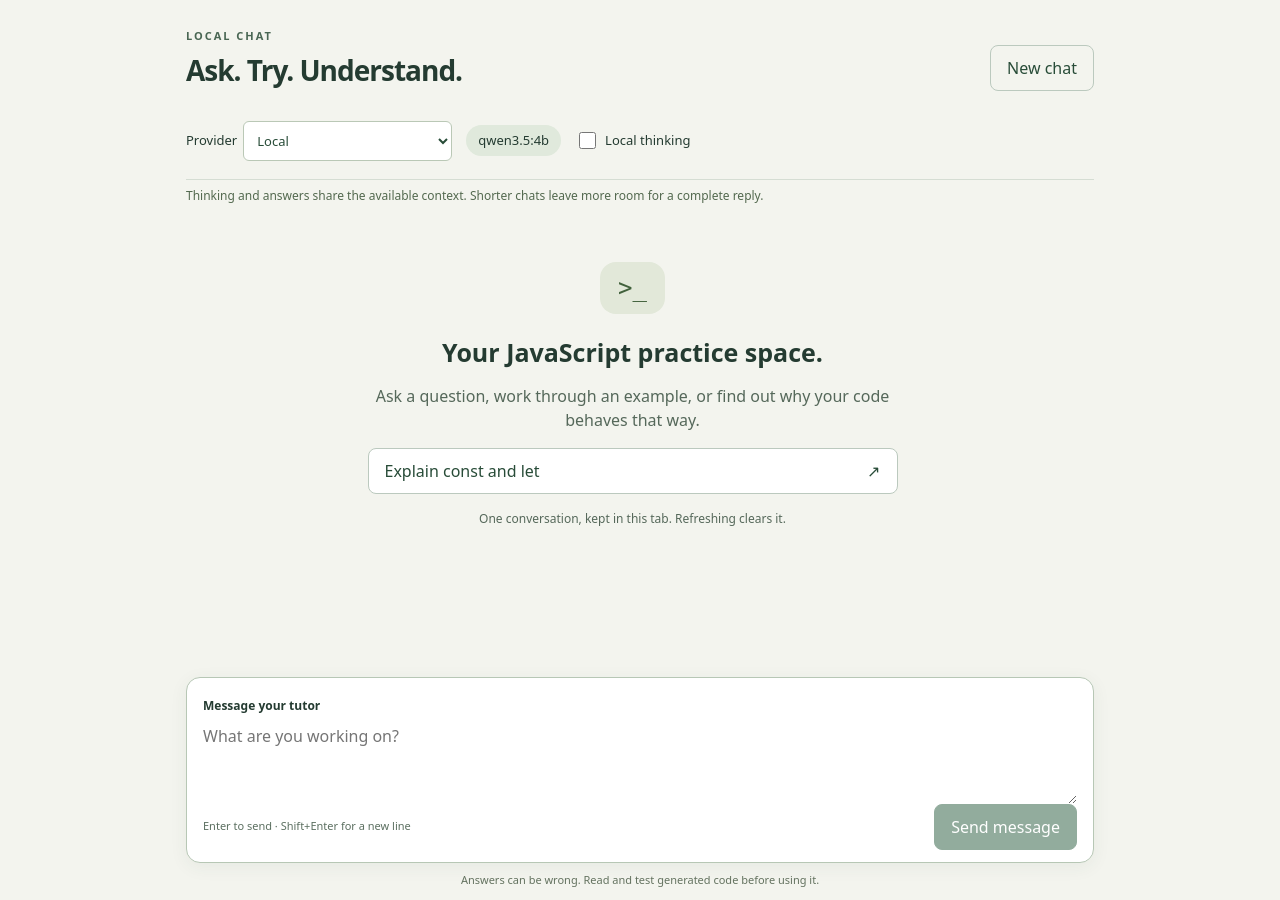
stops partial output and retries the same user turn without duplicating it
The image size is (1280, 900).
In the text box: (640, 760) [203,716,1077,804], type "Explain const"
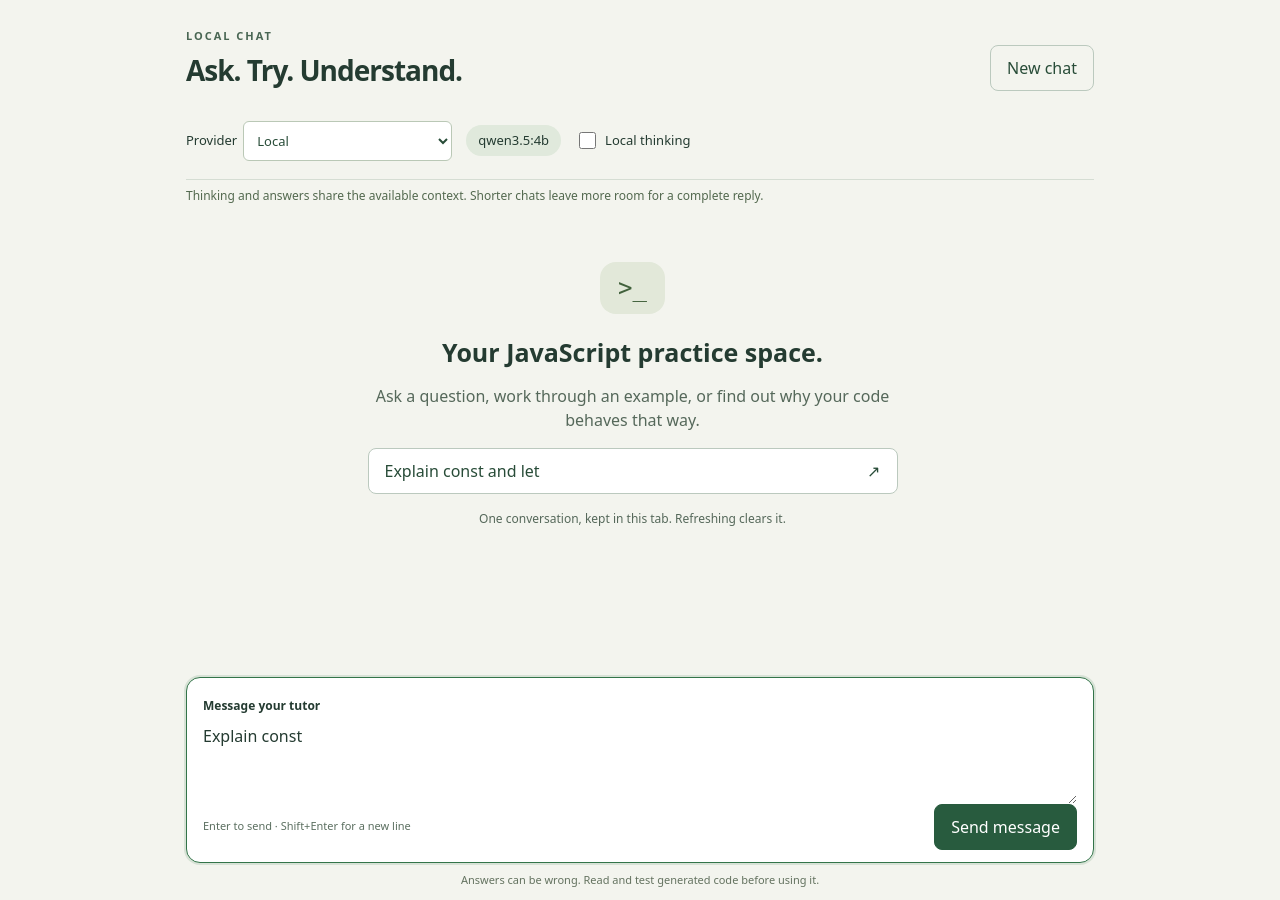
Click the button "Send message": (1006, 826) [934,804,1077,850]
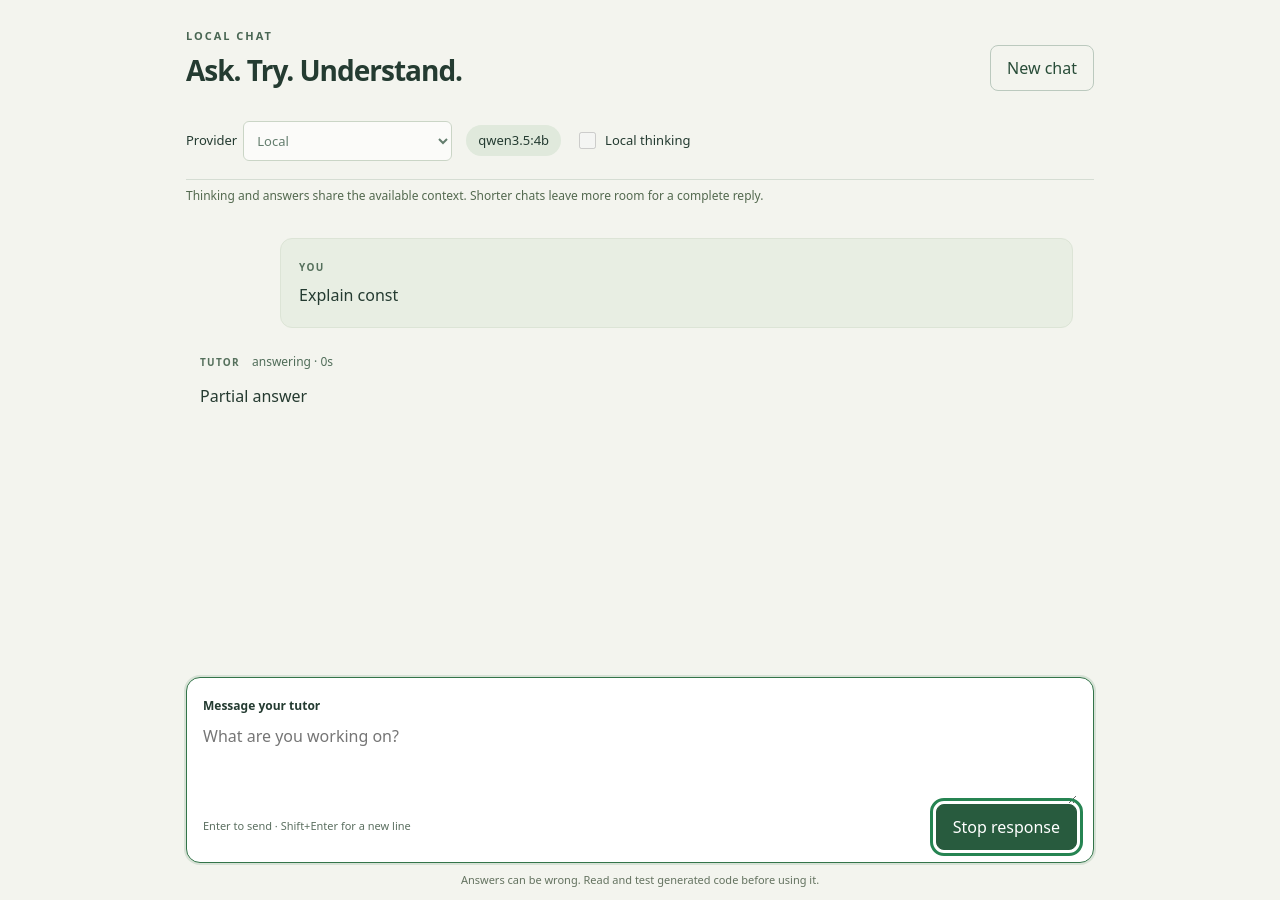
Now the text "Partial answer" is shown, box [200,384,307,406]
Click the button "Stop response": (1006, 826) [936,804,1077,850]
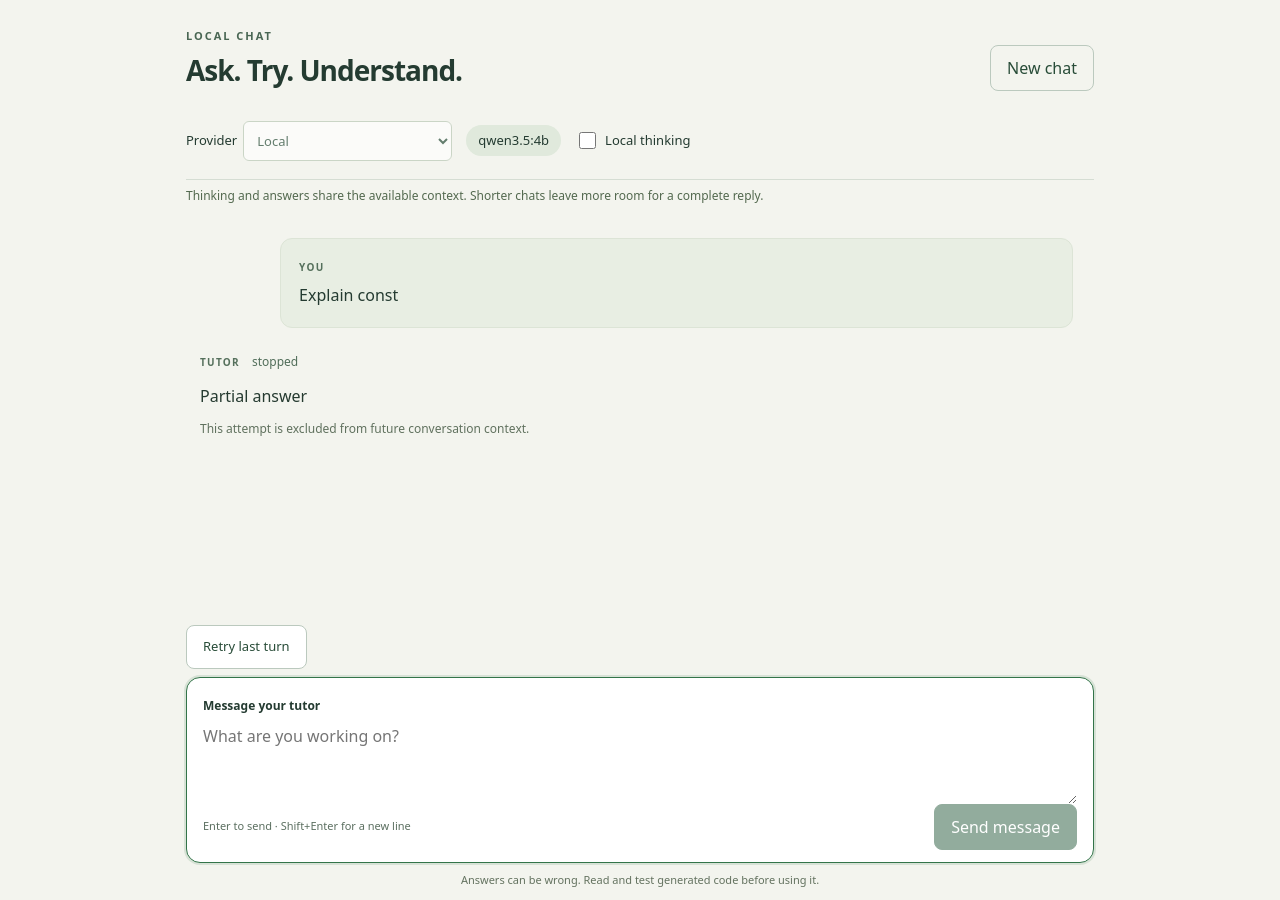
Now the text "Partial answer" is shown, box [200,384,307,406]
Click the button "Retry last turn": (246, 646) [186,624,307,668]
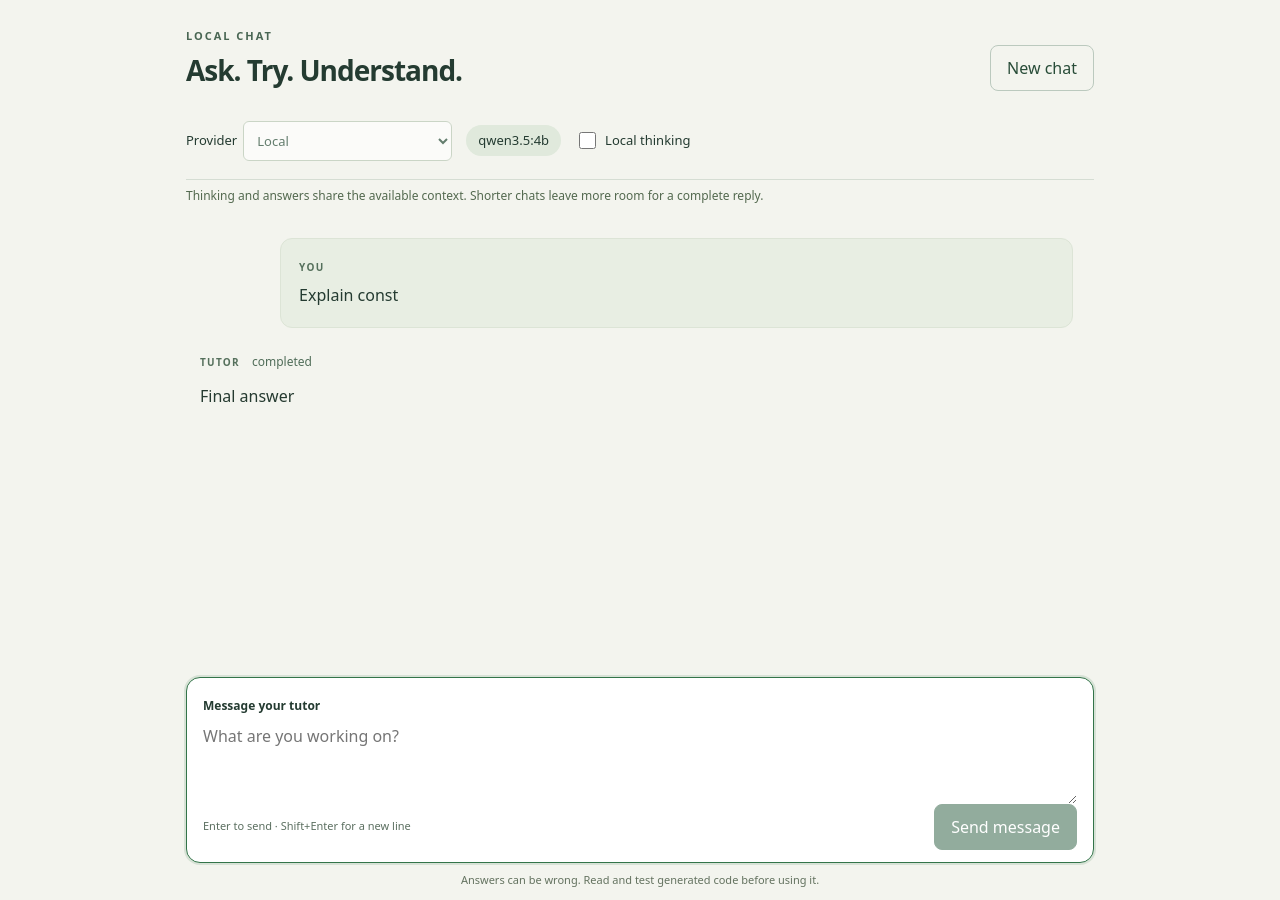
Now the text "Explain const" is shown once, box [299,284,398,306]
Now the text "Final answer" is shown, box [200,384,294,406]
